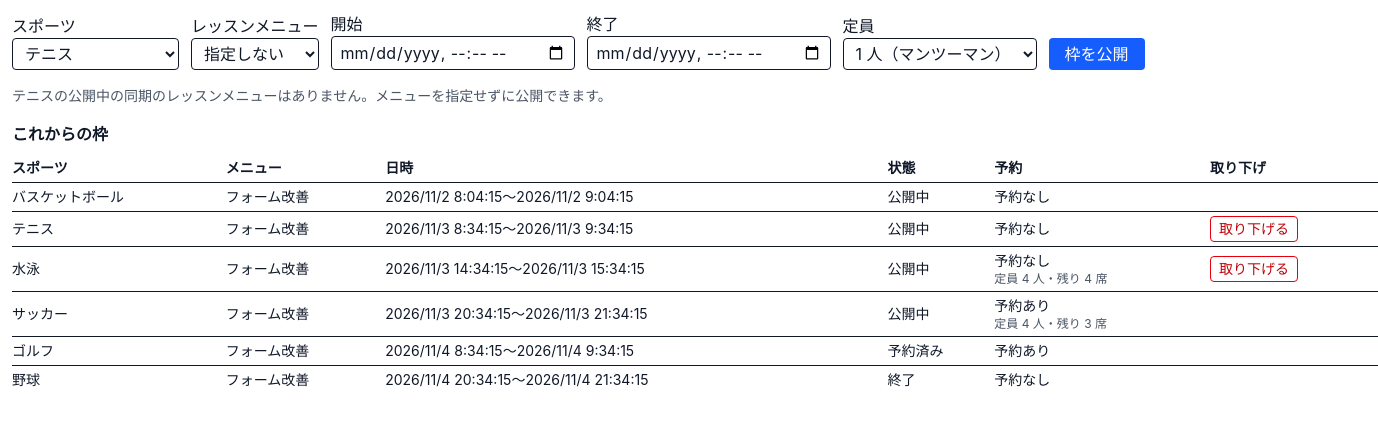
it: 自分の枠の取り下げ › 409 はサーバーの ErrorCode の文言を出し、一覧を取り直す
Step 1. Click the button "取り下げる" in the row of "2026/11/3 8:34:15" → (1254, 229), box [1210,216,1298,242]
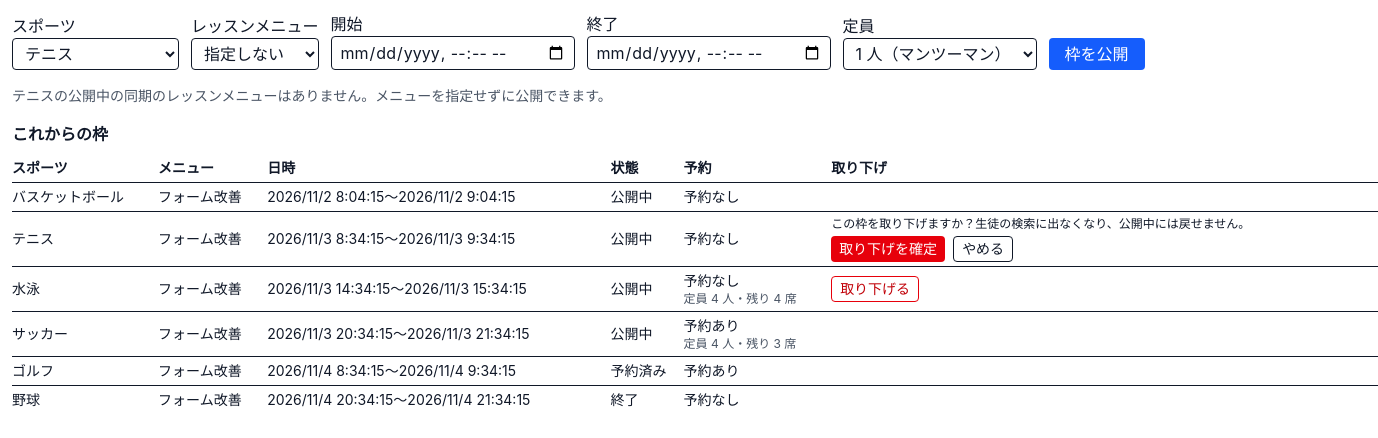
Step 2. Click the button "取り下げを確定" → (888, 249), box [831,236,945,262]
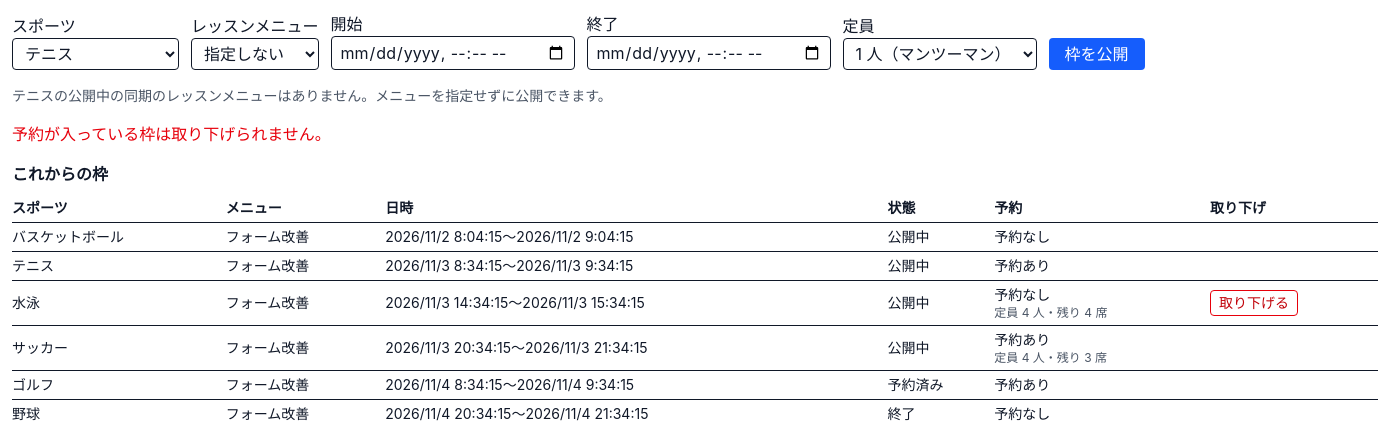
Result: the message reads "予約が入っている枠は取り下げられません。" at [12,124,331,144]
Result: the cell "予約あり" in the row of "2026/11/3 8:34:15" is shown at [994,257,1050,274]
